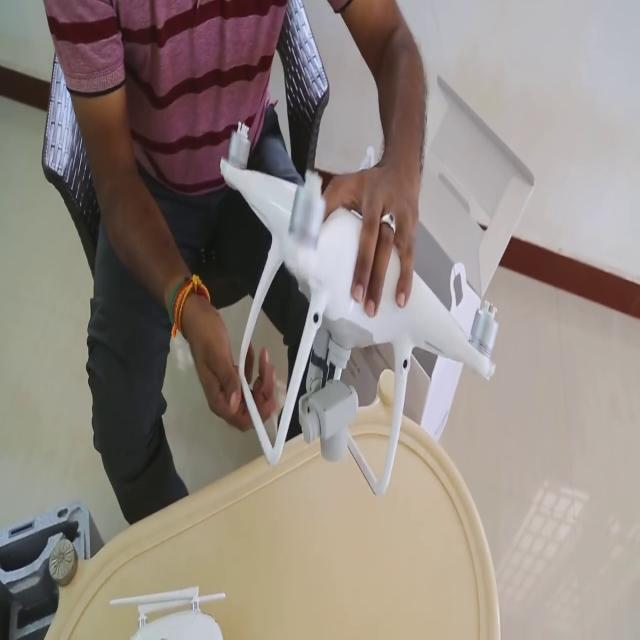drone: (204, 105, 512, 435)
